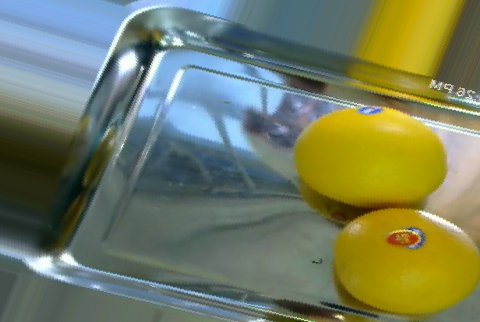Orange: (293, 105, 448, 209), (333, 206, 480, 313)
